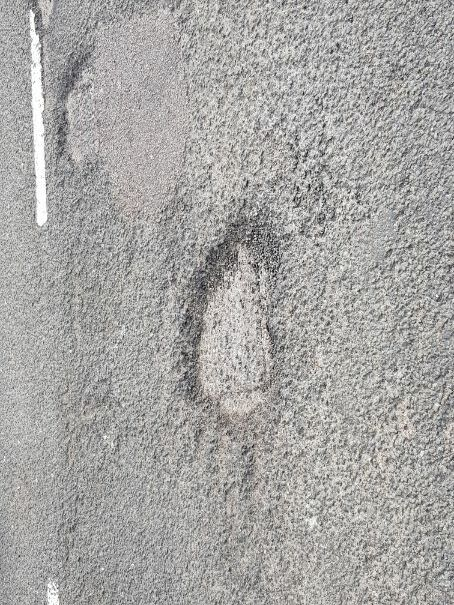pothole: (173, 202, 292, 440), (46, 46, 124, 175)
